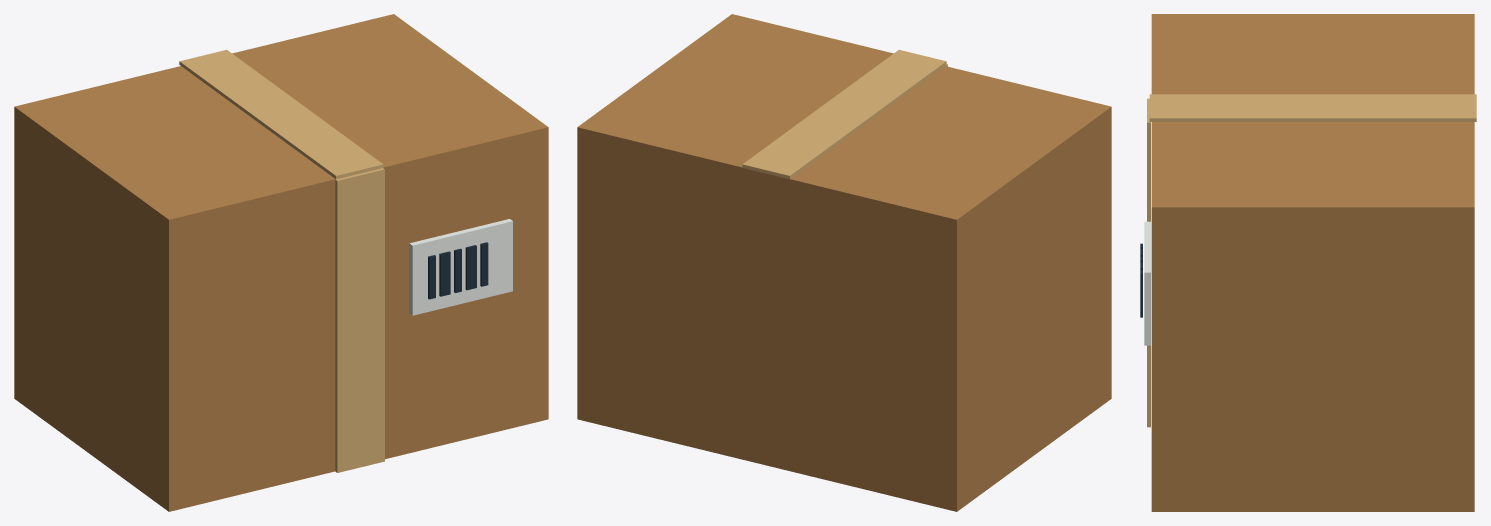
3 renders of one model, left to right at view 1: azimuth 30°, elevation 25°; view 2: azimuth 150°, elevation 25°; view 3: azimuth 270°, elevation 25°, orthographic. The views are drawn at different scales.
Parts seen in each view (by area): view 1: corrugated_cardboard_0002, packing_tape_front_0004, packing_tape_top_0003, identification_plate_0005; view 2: corrugated_cardboard_0002, packing_tape_top_0003; view 3: corrugated_cardboard_0002, packing_tape_top_0003, identification_plate_0005, packing_tape_front_0004.
Boxes of the visible parts, bbox=[...] form: corrugated_cardboard_0002: bbox=[14, 14, 548, 511]; packing_tape_front_0004: bbox=[335, 168, 384, 472]; packing_tape_top_0003: bbox=[179, 49, 383, 179]; identification_plate_0005: bbox=[409, 219, 512, 315]; corrugated_cardboard_0002: bbox=[577, 14, 1111, 511]; packing_tape_top_0003: bbox=[742, 49, 946, 179]; corrugated_cardboard_0002: bbox=[1151, 14, 1474, 511]; packing_tape_top_0003: bbox=[1149, 94, 1476, 121]; identification_plate_0005: bbox=[1144, 221, 1150, 345]; packing_tape_front_0004: bbox=[1147, 98, 1150, 427].
Size of the model in its own units: 0.68 by 0.507 by 0.5.
